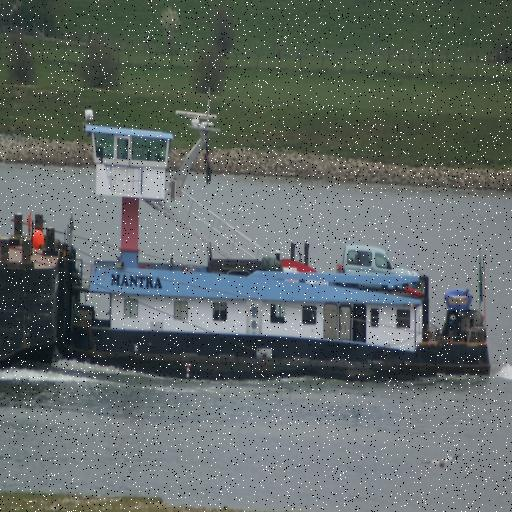tugboat: (55, 86, 496, 392)
